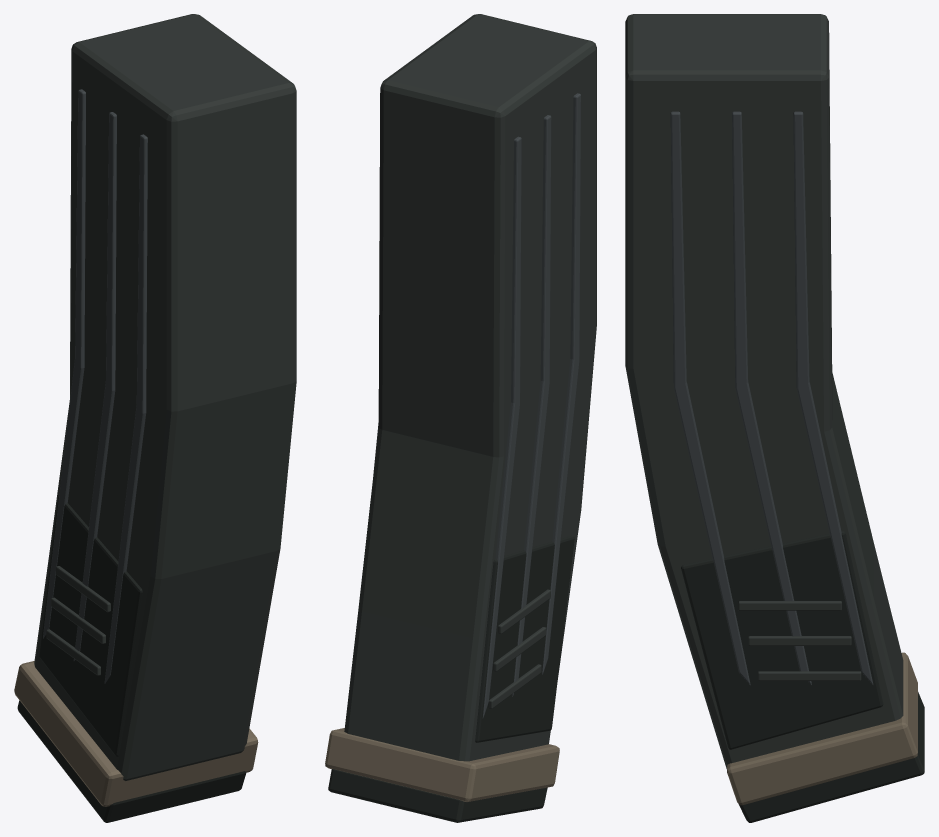
Rendered from extmag.glb.
3 renders of one model, left to right at view 1: azimuth 30°, elevation 25°; view 2: azimuth 150°, elevation 25°; view 3: azimuth 270°, elevation 25°, orthographic. The views are drawn at different scales.
Parts seen in each view (by area): view 1: extmag_polymer, extmag_rubber, extmag_metal, extmag_Bronze_floorplate; view 2: extmag_polymer, extmag_rubber, extmag_metal, extmag_Bronze_floorplate; view 3: extmag_polymer, extmag_rubber, extmag_metal, extmag_Bronze_floorplate.
Boxes of the visible parts, x1,y1,x2,y2 form: extmag_polymer: (34,14,296,780); extmag_rubber: (17,496,246,822); extmag_metal: (43,89,147,683); extmag_Bronze_floorplate: (14,661,258,806); extmag_polymer: (344,14,596,761); extmag_rubber: (328,535,574,822); extmag_metal: (373,93,580,718); extmag_Bronze_floorplate: (325,728,559,801); extmag_polymer: (625,14,903,768); extmag_rubber: (681,531,924,822); extmag_metal: (670,111,873,685); extmag_Bronze_floorplate: (727,652,917,805).
Size of the model in its own units: 0.054 by 0.2556 by 0.0926.
